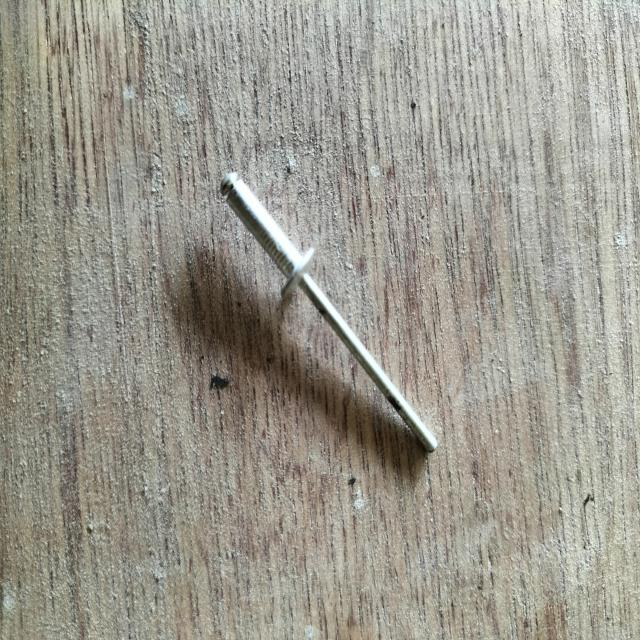rivet: (221, 170, 439, 463)
